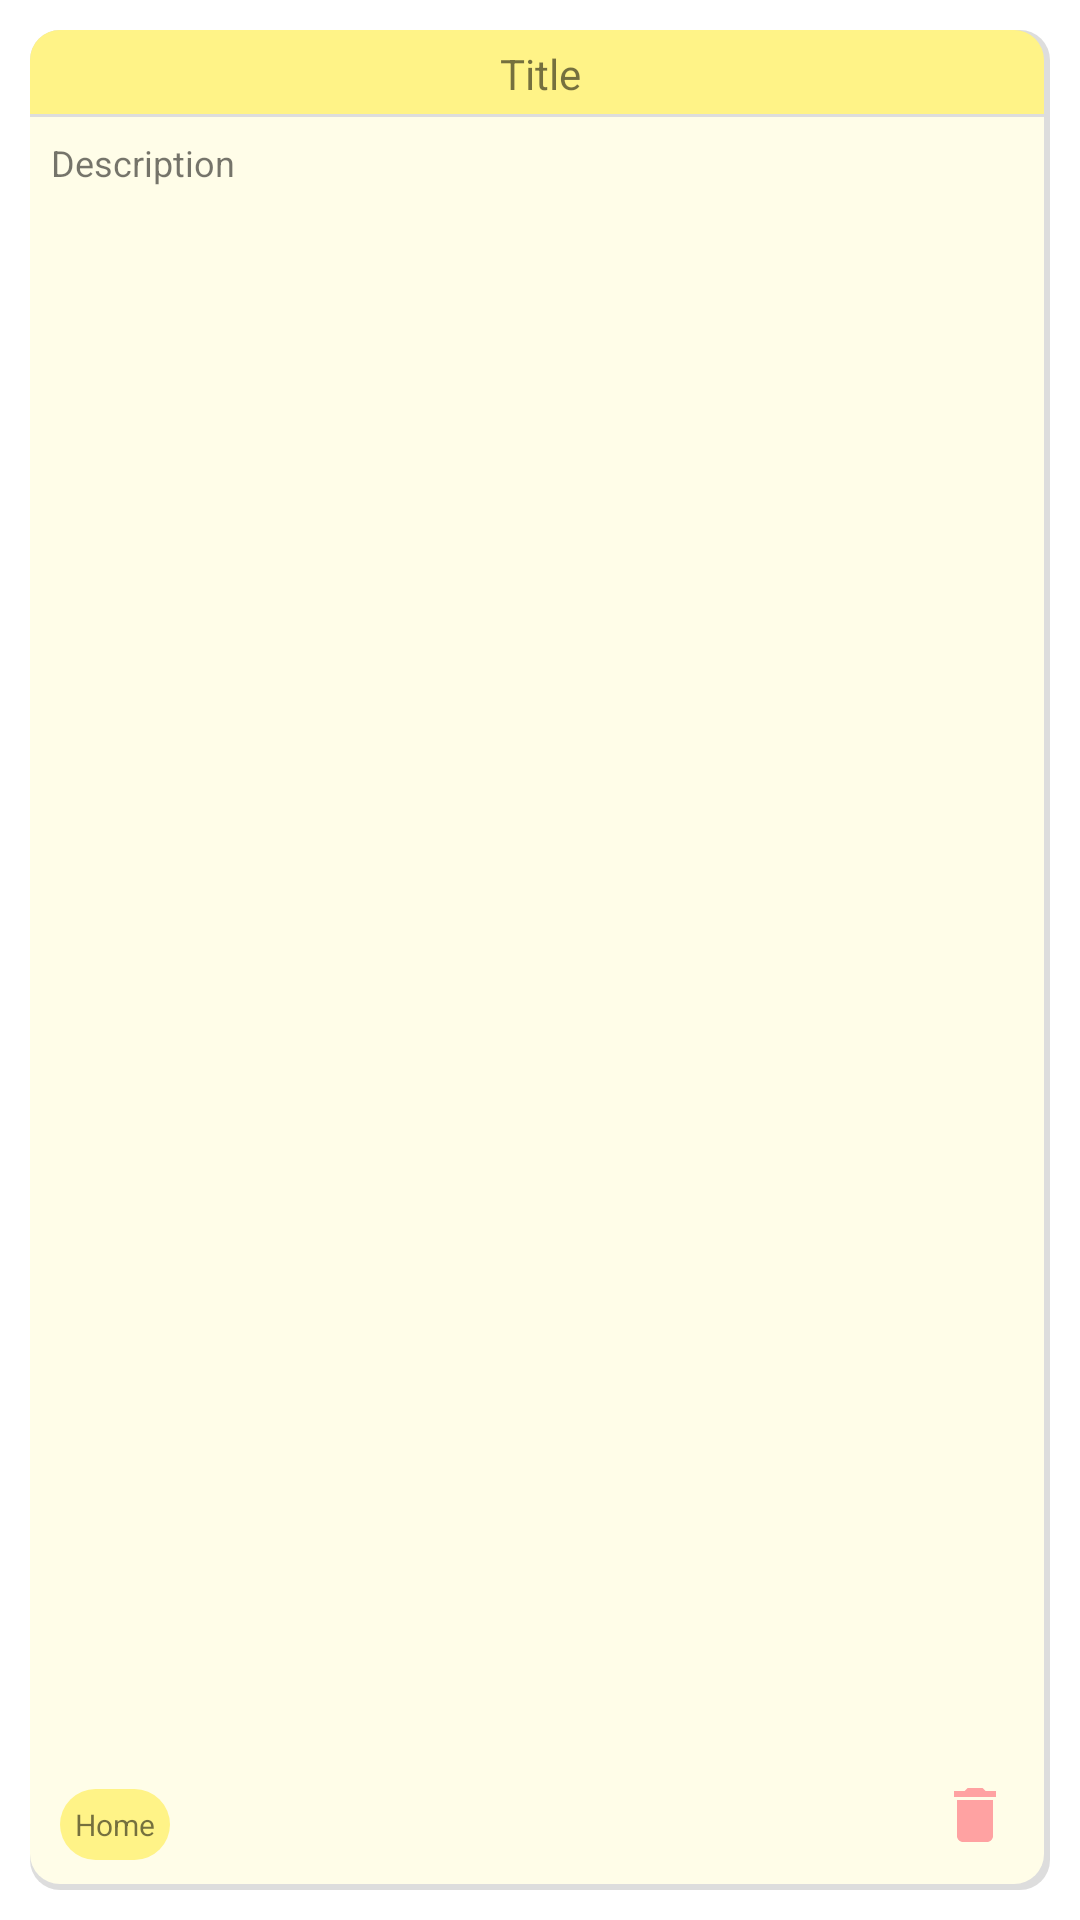

Icon click points for this 1080px x 1920px phone screenshot, format (x=x, y=y):
delete note button: (x=975, y=1815)
